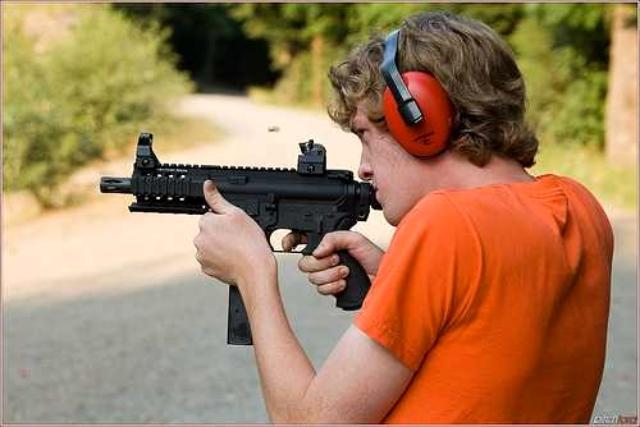rifle: (94, 115, 384, 350)
